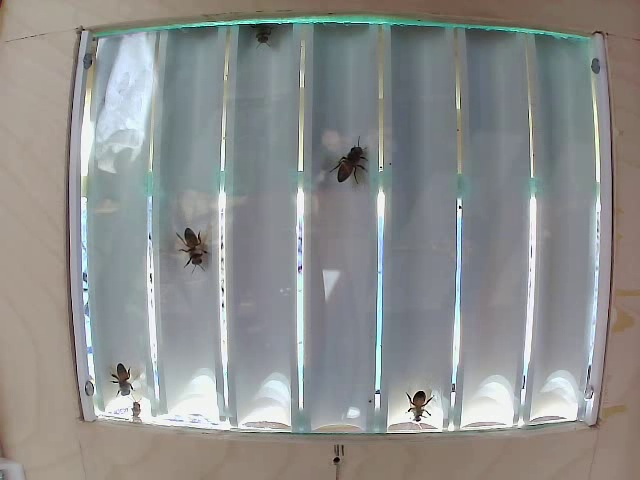bee: (321, 128, 382, 187), (179, 212, 223, 276), (107, 350, 142, 393)
